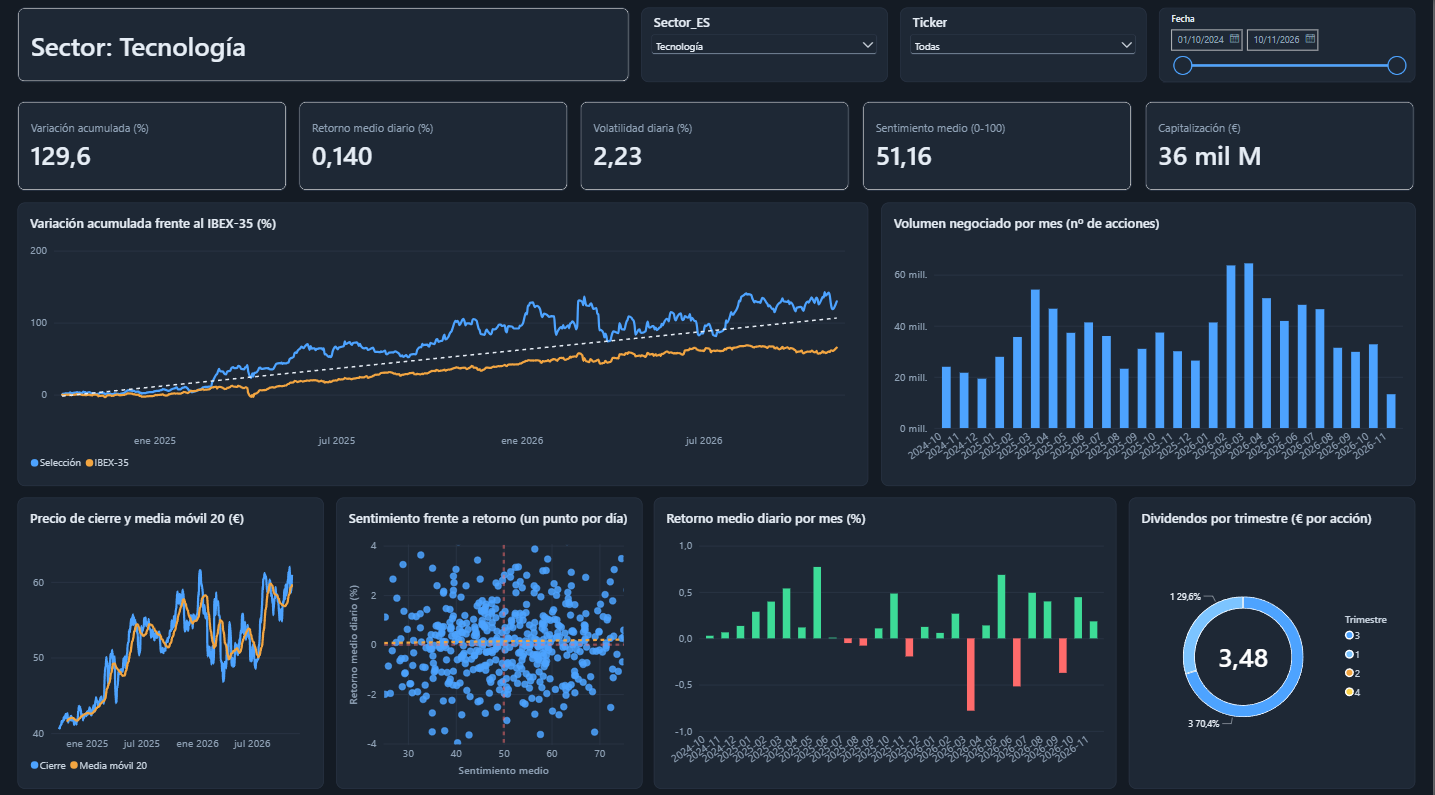

What the dashboard file says about the page in this screenshot:
{"tool":"powerbi","page":{"name":"Dashboard","canvas":[1920,1080],"ordinal":3},"visuals":[{"type":"slicer","fields":{"Values":["Empresa.Sector_ES"]},"box":[753.5,31.4,280.8,68],"z":0},{"type":"slicer","fields":{"Values":["Empresa.Ticker"]},"box":[1055.2,26.2,280.8,80.2],"z":1000},{"type":"slicer","fields":{"Values":["Fecha.Fecha"]},"box":[1360.5,19.2,280.8,95.9],"z":2000},{"type":"cardVisual","fields":{"Data":["Hechos.Variacion Acumulada"]},"box":[36.6,115.1,218,174.4],"z":3000},{"type":"cardVisual","fields":{"Data":["Hechos.Retorno Medio Diario"]},"box":[375,115.1,218,174.4],"z":4000},{"type":"cardVisual","fields":{"Data":["Hechos.Volatilidad Diaria"]},"box":[741.3,115.1,218,174.4],"z":5000},{"type":"cardVisual","fields":{"Data":["Hechos.Sentimiento Medio"]},"box":[1088.4,115.1,218,174.4],"z":6000},{"type":"cardVisual","fields":{"Data":["Hechos.Capitalizacion Total"]},"box":[1447.7,115.1,218,174.4],"z":7000},{"type":"lineChart","fields":{"Category":["Fecha.Fecha"],"Y":["Hechos.Var Acum Seleccion","Hechos.Var Acum IBEX"]},"box":[43.6,314,1058.7,376.7],"z":8000},{"type":"clusteredColumnChart","fields":{"Category":["Fecha.AnioMes"],"Y":["Sum(Hechos.Volume)"]},"box":[1133.7,314,736,376.7],"z":9000},{"type":"lineChart","fields":{"Category":["Fecha.Fecha"],"Y":["Avg(Hechos.Close)","Avg(Hechos.Media_Movil_20)"]},"box":[66.3,711.6,395.9,322.7],"z":10000},{"type":"scatterChart","fields":{"Category":["Fecha.Fecha"],"X":["Hechos.Sentimiento Medio"],"Y":["Hechos.Retorno Medio Diario"]},"box":[462.2,711.6,444.8,322.7],"z":11000},{"type":"clusteredColumnChart","fields":{"Category":["Fecha.AnioMes"],"Y":["Hechos.Retorno Medio Diario"]},"box":[907,711.6,610.5,322.7],"z":12000},{"type":"donutChart","fields":{"Category":["Fecha.Trimestre"],"Y":["Sum(Hechos.Dividends)"]},"box":[1517.4,711.6,385.5,322.7],"z":13000},{"type":"cardVisual","fields":{"Data":["Hechos.Titulo Dashboard"]},"box":[66.3,19.2,556.4,75],"z":13001}]}

Visuals, with their boxes in screenshot pixels (x1, y1, x2, y2), scaled from the page's 1920x1080 canvas onto the 1435x795 screenshot:
slicer - Empresa.Sector_ES: (x1=563, y1=23, x2=773, y2=73)
slicer - Empresa.Ticker: (x1=789, y1=19, x2=999, y2=78)
slicer - Fecha.Fecha: (x1=1017, y1=14, x2=1227, y2=85)
cardVisual - Hechos.Variacion Acumulada: (x1=27, y1=85, x2=190, y2=213)
cardVisual - Hechos.Retorno Medio Diario: (x1=280, y1=85, x2=443, y2=213)
cardVisual - Hechos.Volatilidad Diaria: (x1=554, y1=85, x2=717, y2=213)
cardVisual - Hechos.Sentimiento Medio: (x1=813, y1=85, x2=976, y2=213)
cardVisual - Hechos.Capitalizacion Total: (x1=1082, y1=85, x2=1245, y2=213)
lineChart - Fecha.Fecha x Hechos.Var Acum Seleccion: (x1=33, y1=231, x2=824, y2=508)
clusteredColumnChart - Fecha.AnioMes x Sum(Hechos.Volume): (x1=847, y1=231, x2=1397, y2=508)
lineChart - Fecha.Fecha x Avg(Hechos.Close): (x1=50, y1=524, x2=345, y2=761)
scatterChart - Fecha.Fecha x Hechos.Sentimiento Medio: (x1=345, y1=524, x2=678, y2=761)
clusteredColumnChart - Fecha.AnioMes x Hechos.Retorno Medio Diario: (x1=678, y1=524, x2=1134, y2=761)
donutChart - Fecha.Trimestre x Sum(Hechos.Dividends): (x1=1134, y1=524, x2=1422, y2=761)
cardVisual - Hechos.Titulo Dashboard: (x1=50, y1=14, x2=465, y2=69)
